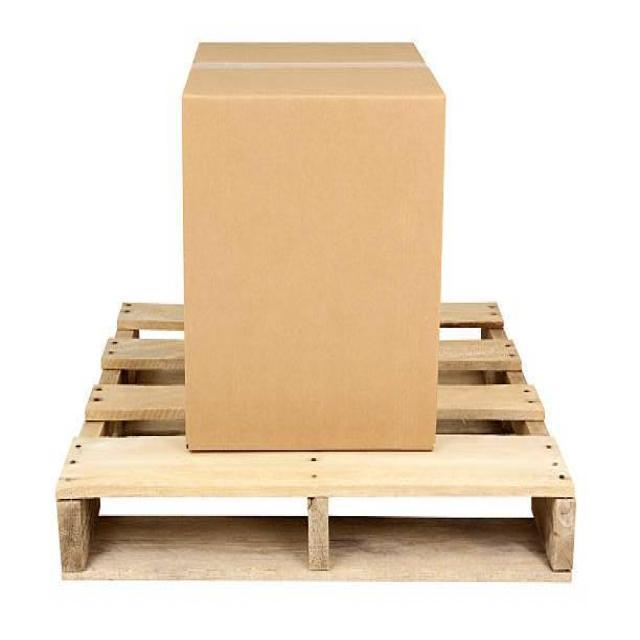box: (170, 33, 444, 460)
